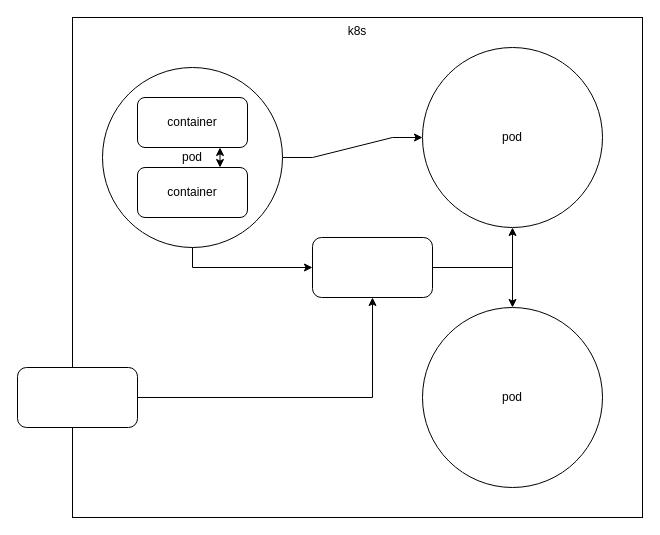
This 660x535 diagram has some shape labels left out. The box of each missing label's shape, as (x1, y1, x2, y2) in pixels:
ingress: (16, 366, 138, 428)
svc: (312, 236, 432, 298)
